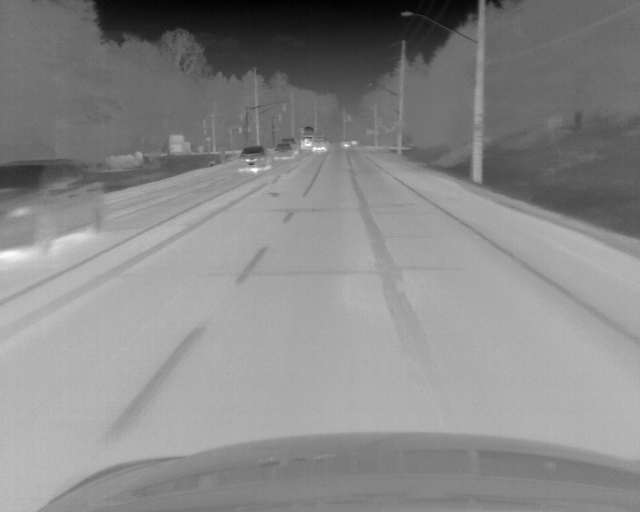car: (1, 159, 107, 254), (237, 146, 271, 174), (274, 138, 296, 160), (300, 127, 313, 151), (313, 138, 327, 153), (341, 140, 354, 150)
